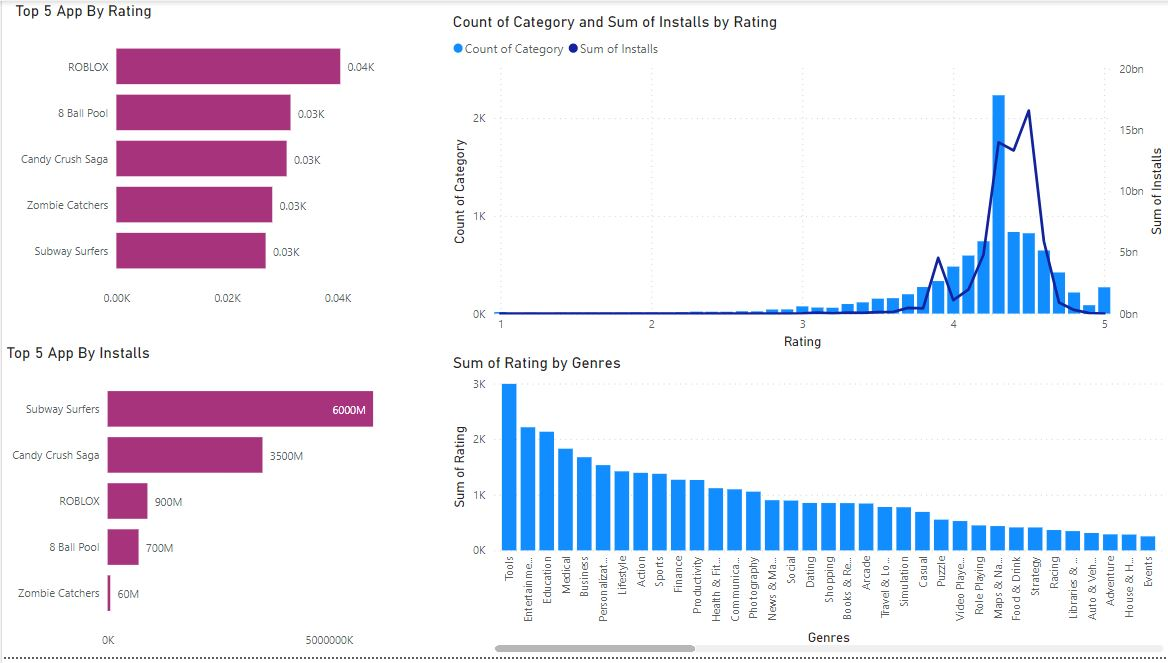

This screenshot's page, from the dashboard's own definition file:
{"tool":"powerbi","page":{"name":"Page 2","canvas":[1280,720],"ordinal":1},"visuals":[{"type":"barChart","title":"Top 5 App By Rating","fields":{"Category":["cleaned-google-playstore.App"],"Y":["Sum(cleaned-google-playstore.Rating)"]},"box":[9.6,0,439.1,344.4],"z":0},{"type":"barChart","title":"Top 5 App By Installs","fields":{"Category":["cleaned-google-playstore.App"],"Y":["Sum(cleaned-google-playstore.Installs)"]},"box":[0,376,439.1,344.4],"z":1},{"type":"lineClusteredColumnComboChart","fields":{"Category":["cleaned-google-playstore.Rating"],"Y":["CountNonNull(cleaned-google-playstore.Category)"],"Y2":["Sum(cleaned-google-playstore.Installs)"]},"box":[489.9,12.3,790.4,374.6],"z":2},{"type":"columnChart","fields":{"Category":["cleaned-google-playstore.Genres"],"Y":["Sum(cleaned-google-playstore.Rating)"]},"box":[490,387,790,333],"z":3}]}

Visuals, with their boxes in screenshot pixels (x1, y1, x2, y2), scaled from the page's 1280x720 canvas onto the 1168x663 screenshot:
"Top 5 App By Rating" barChart: 9, 0, 409, 317
"Top 5 App By Installs" barChart: 0, 346, 401, 662
lineClusteredColumnComboChart - cleaned-google-playstore.Rating x CountNonNull(cleaned-google-playstore.Category): 447, 11, 1167, 356
columnChart - cleaned-google-playstore.Genres x Sum(cleaned-google-playstore.Rating): 447, 356, 1167, 662
